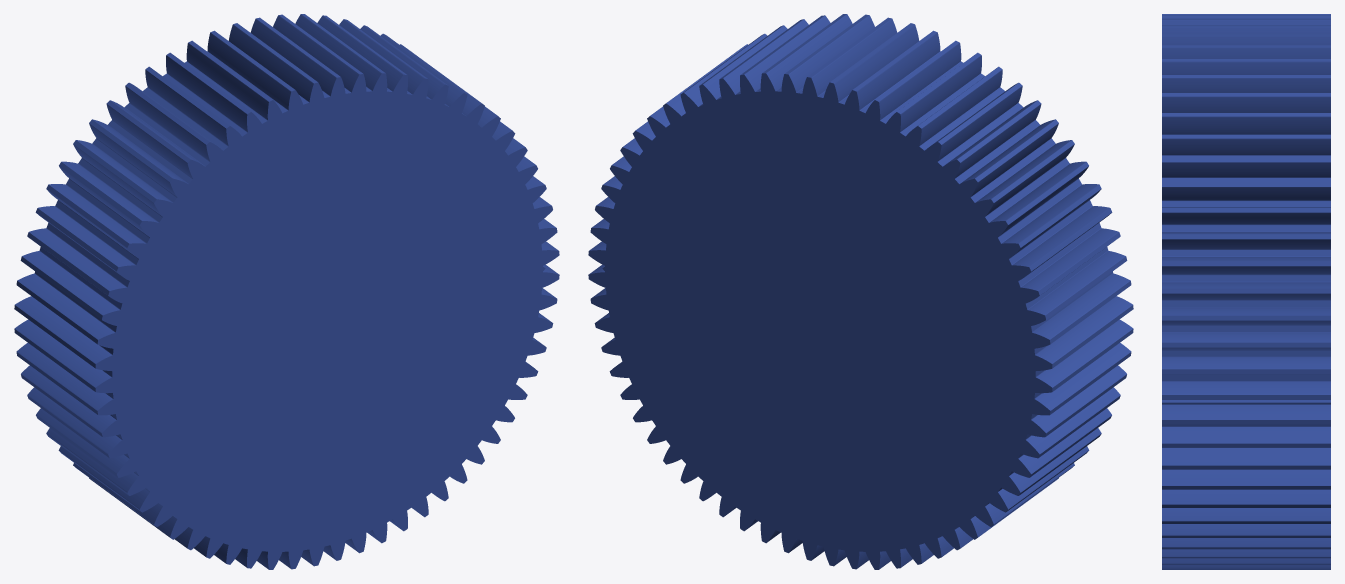
File: tinker.obj
3 renders of one model, left to right at view 1: azimuth 30°, elevation 25°; view 2: azimuth 150°, elevation 25°; view 3: azimuth 270°, elevation 25°, orthographic. The views are drawn at different scales.
Parts seen in each view (by area): view 1: obj_0; view 2: obj_0; view 3: obj_0.
Boxes of the visible parts, x1=… form: obj_0: x1=14, y1=14, x2=559, y2=569; obj_0: x1=588, y1=14, x2=1133, y2=569; obj_0: x1=1162, y1=14, x2=1330, y2=569.
Bounding box in the file's own units: 66.1 × 65.77 × 20.
